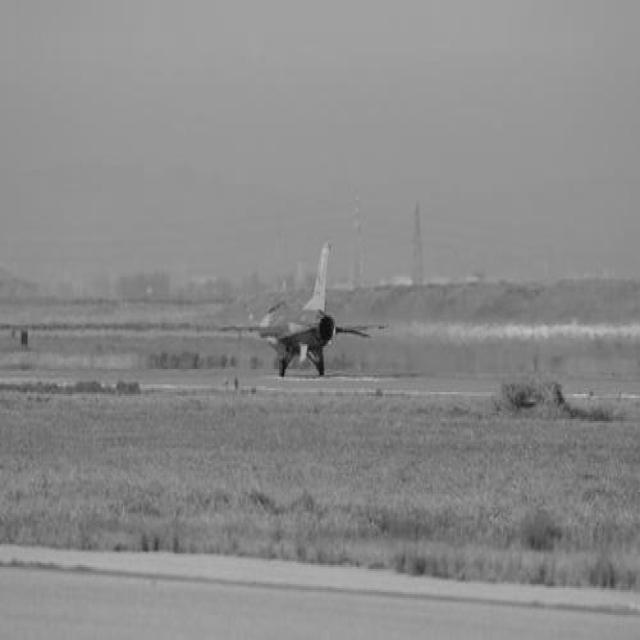aeroplane: (220, 238, 389, 375)
